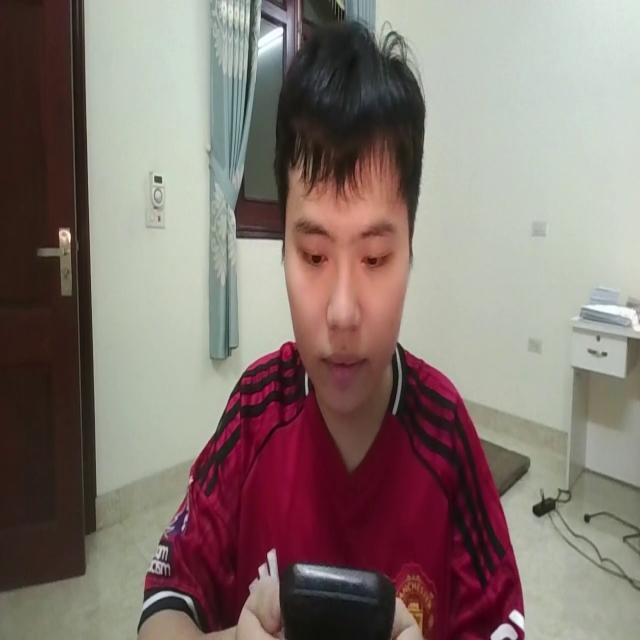phone: (282, 551, 398, 640)
student: (139, 4, 525, 640)
